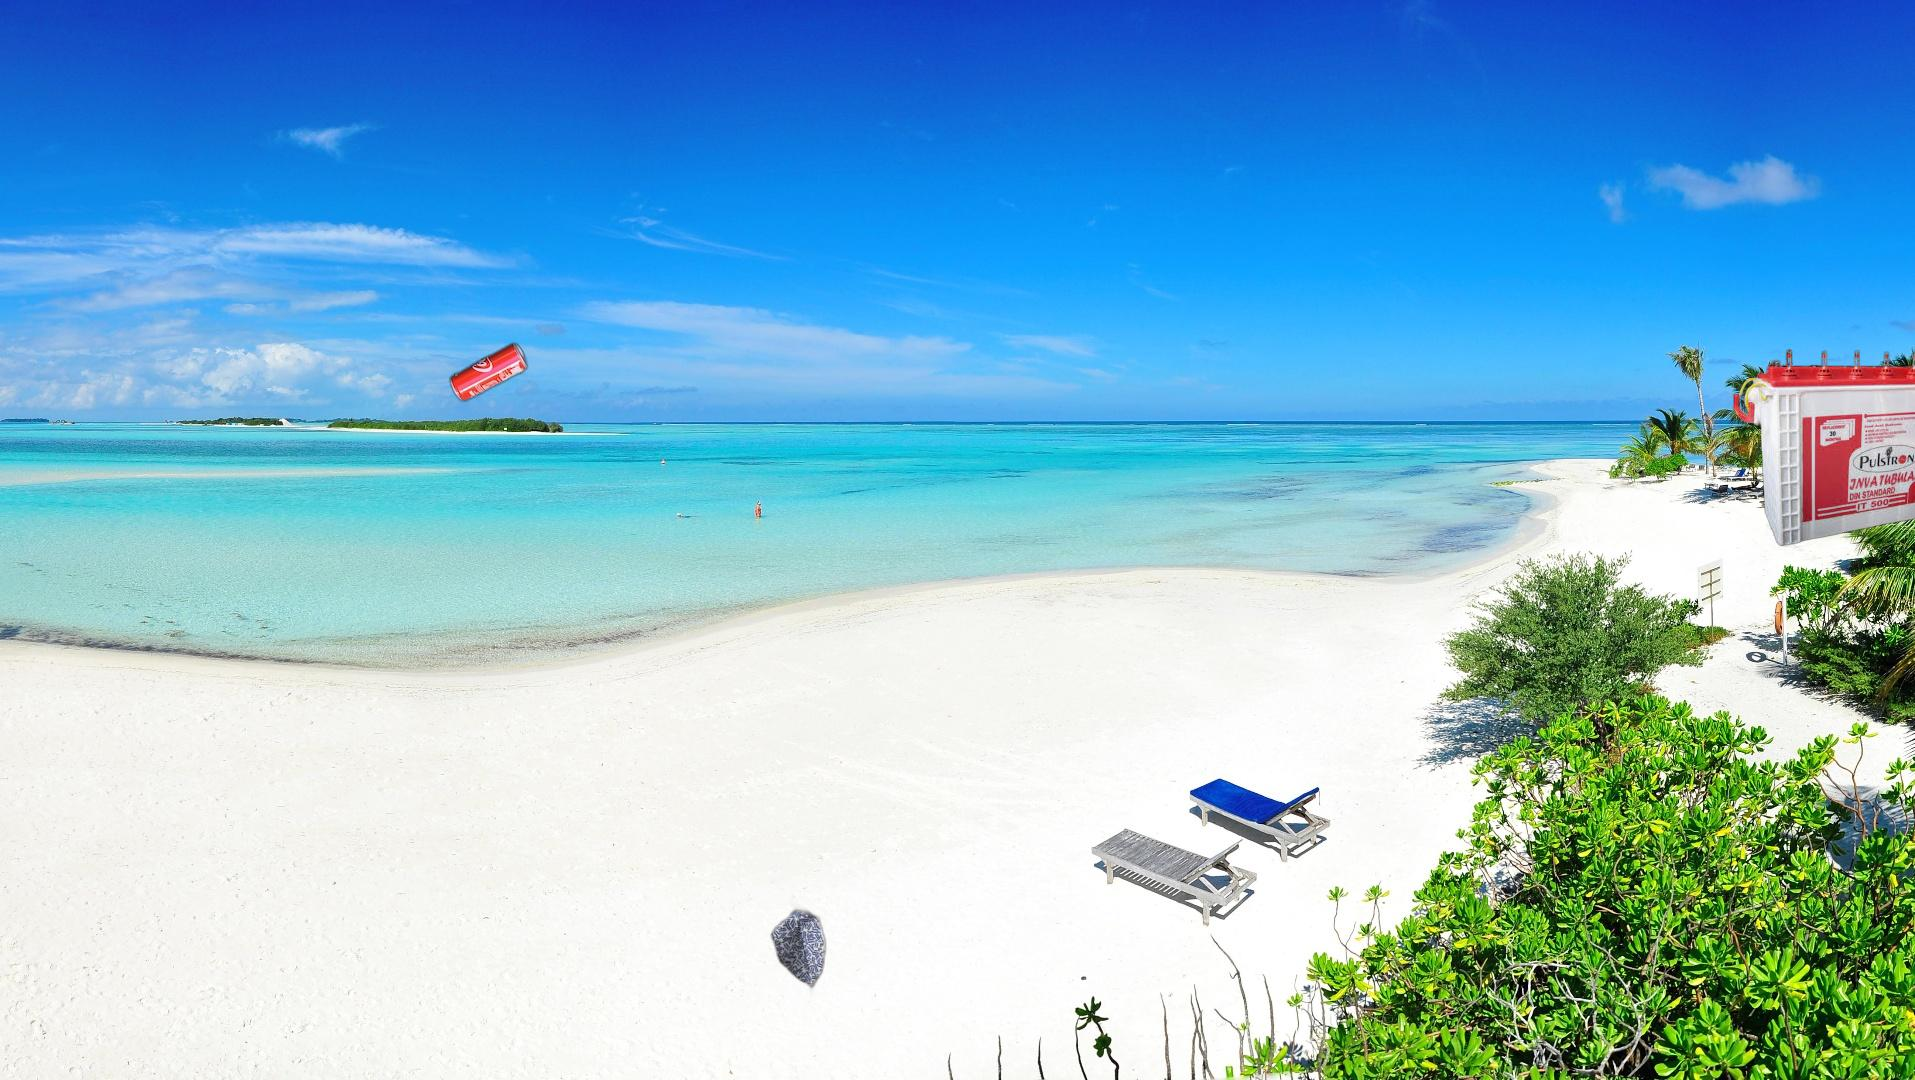battery: (1731, 347, 1915, 549)
metal-cans: (446, 337, 531, 406)
paper: (765, 893, 830, 998)
